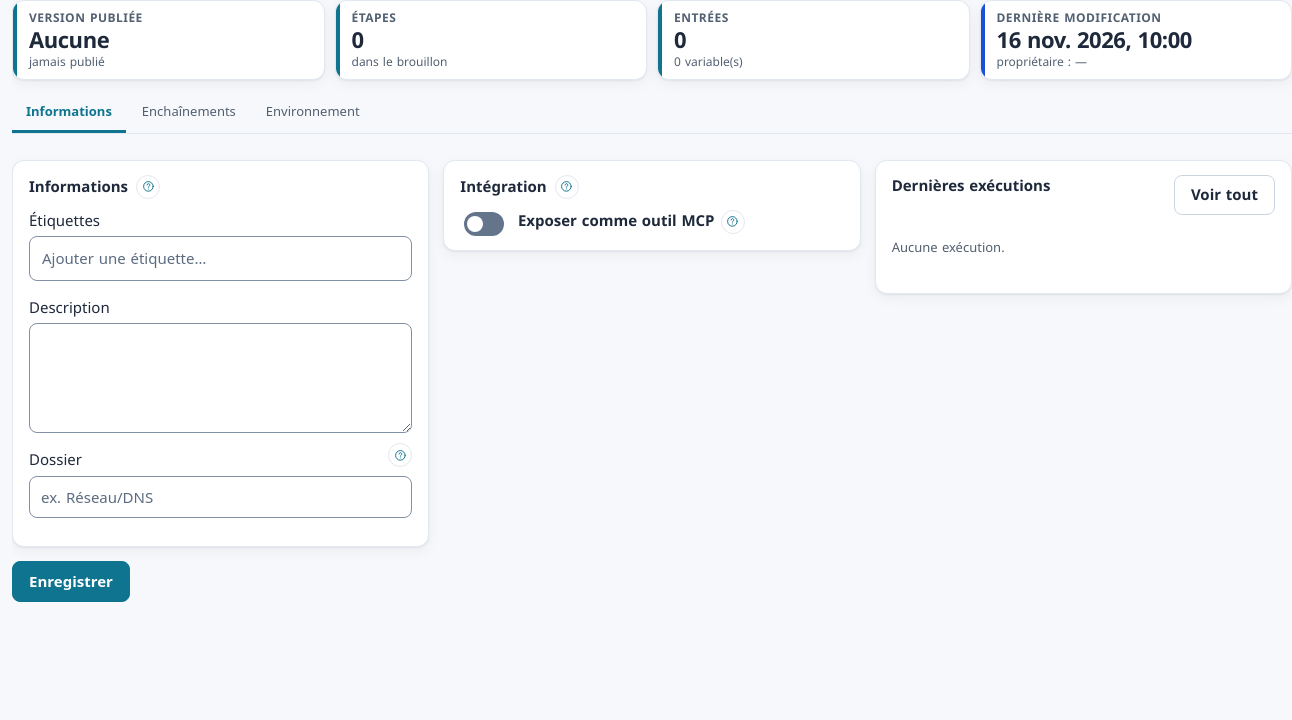
Test case: Réglages d'un workflow : runner imposé › la page Informations a trois sous-onglets ; exécution et cache sont dans « Environnement »
expect the tab "Informations" is shown: met, box [12,94,126,133]
expect the tab "Enchaînements" is shown: met, box [128,94,250,133]
Step 1. Click the tab "Environnement" → {"x": 313, "y": 114}, box [252,94,374,133]
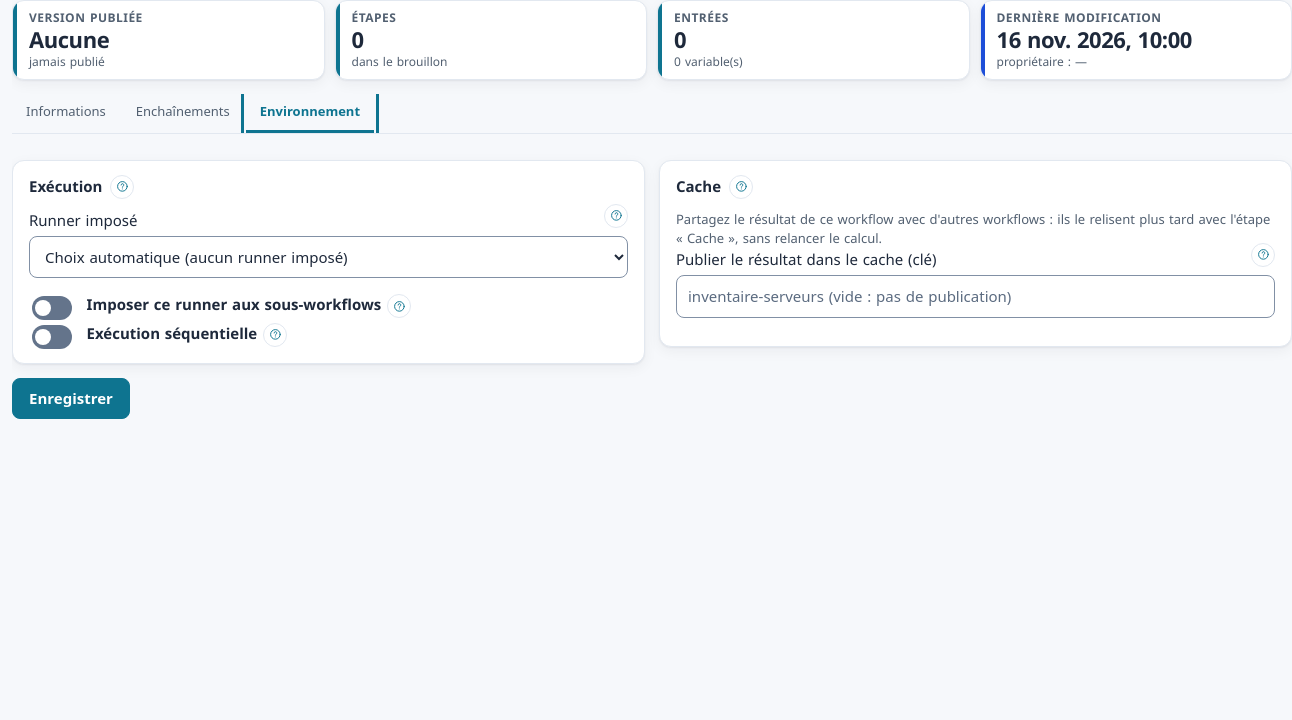
expect the dropdown labelled "Runner imposé" is shown: met, box [29,236,628,278]
expect the field labelled "Publier le résultat dans le cache (clé)" is shown: met, box [676,275,1275,318]
Step 2. Click the tab "Enchaînements" → {"x": 183, "y": 114}, box [122,94,244,133]
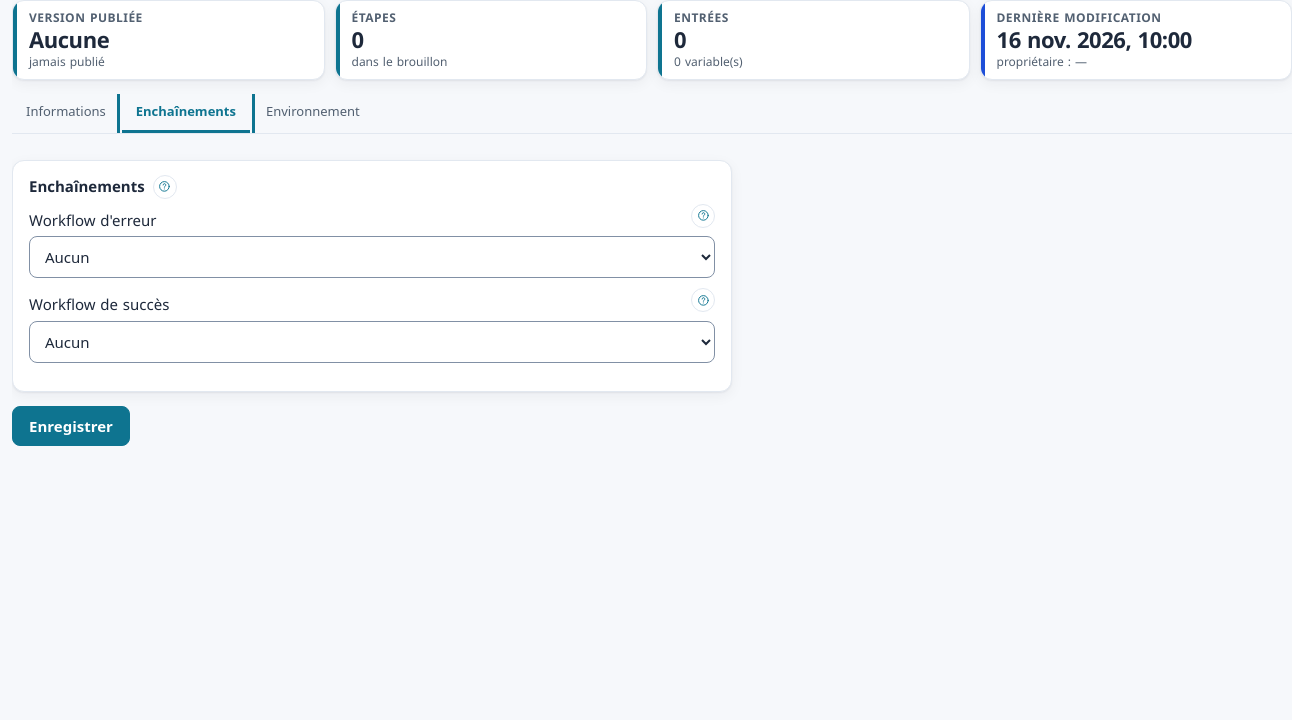
expect the dropdown labelled "Workflow d'erreur" is shown: met, box [29,236,715,278]
expect the label labelled "Runner imposé" is gone: met
Step 3. Click the tab "Informations" → {"x": 66, "y": 114}, box [12,94,120,133]
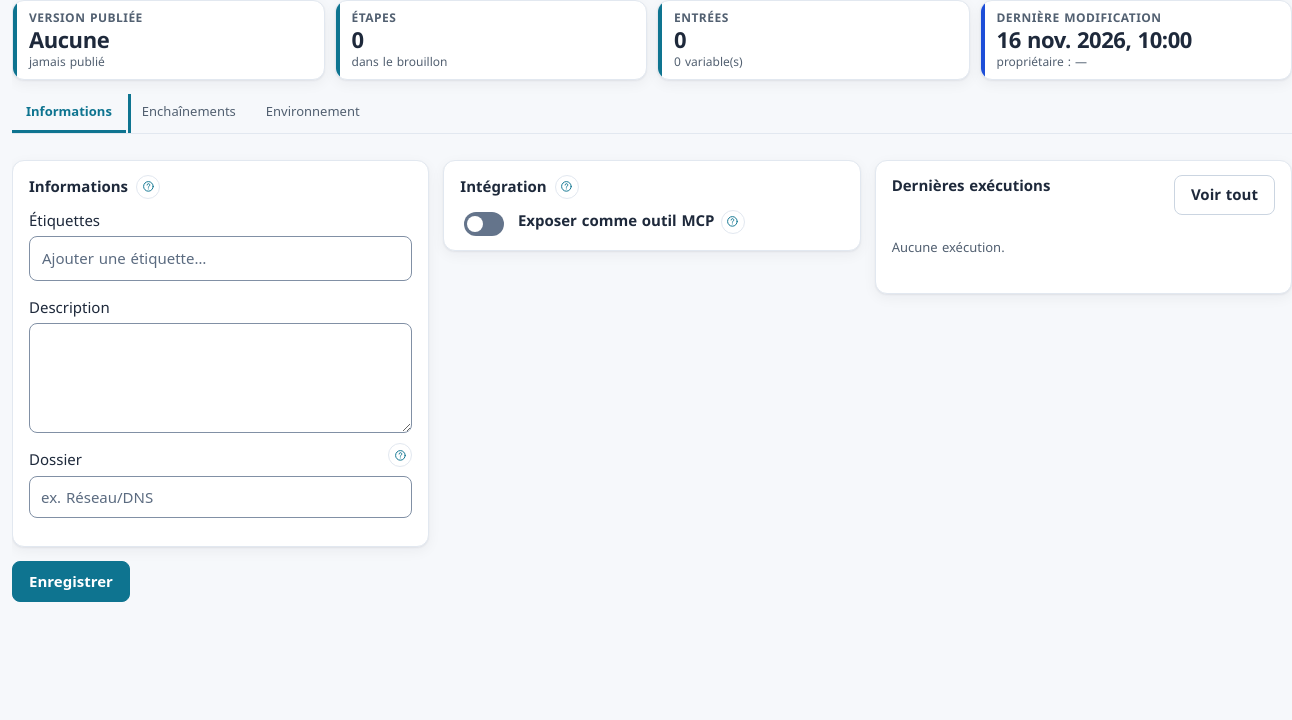
expect the text box labelled "Description" is shown: met, box [29,323,412,433]
expect the checkbox labelled "Exposer comme outil MCP" is shown: met, box [464,212,504,236]
